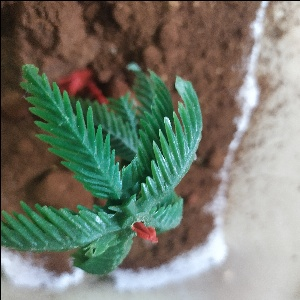plant: (4, 65, 203, 278)
